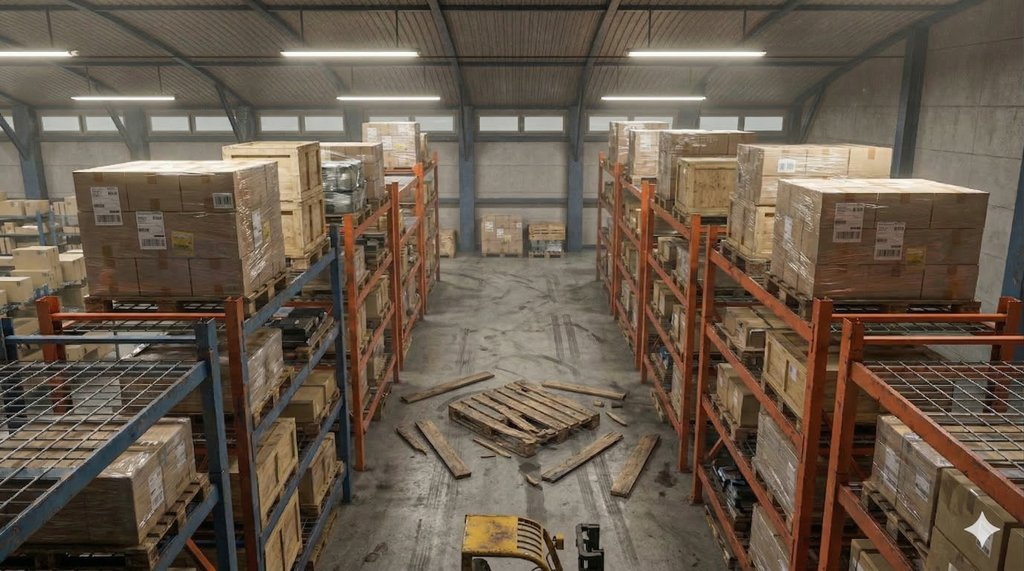empty_shelf: (6, 328, 231, 506), (836, 327, 1020, 497)
obstacle: (370, 342, 695, 536)
pallet: (442, 380, 613, 458), (854, 476, 928, 563), (755, 269, 810, 325), (758, 374, 800, 443), (717, 235, 774, 283)
